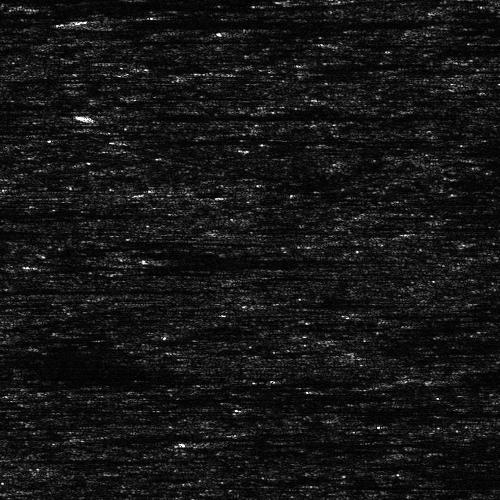rock: (373, 371, 488, 386), (63, 14, 136, 29), (138, 251, 191, 268), (209, 27, 272, 38), (420, 27, 483, 34), (400, 0, 500, 4), (8, 263, 71, 268), (0, 285, 17, 292)
shadow: (100, 14, 500, 29), (165, 251, 401, 268), (241, 27, 500, 38), (0, 285, 210, 292), (431, 371, 500, 386), (100, 114, 424, 117), (0, 99, 71, 110), (40, 263, 117, 268), (452, 27, 500, 34)
